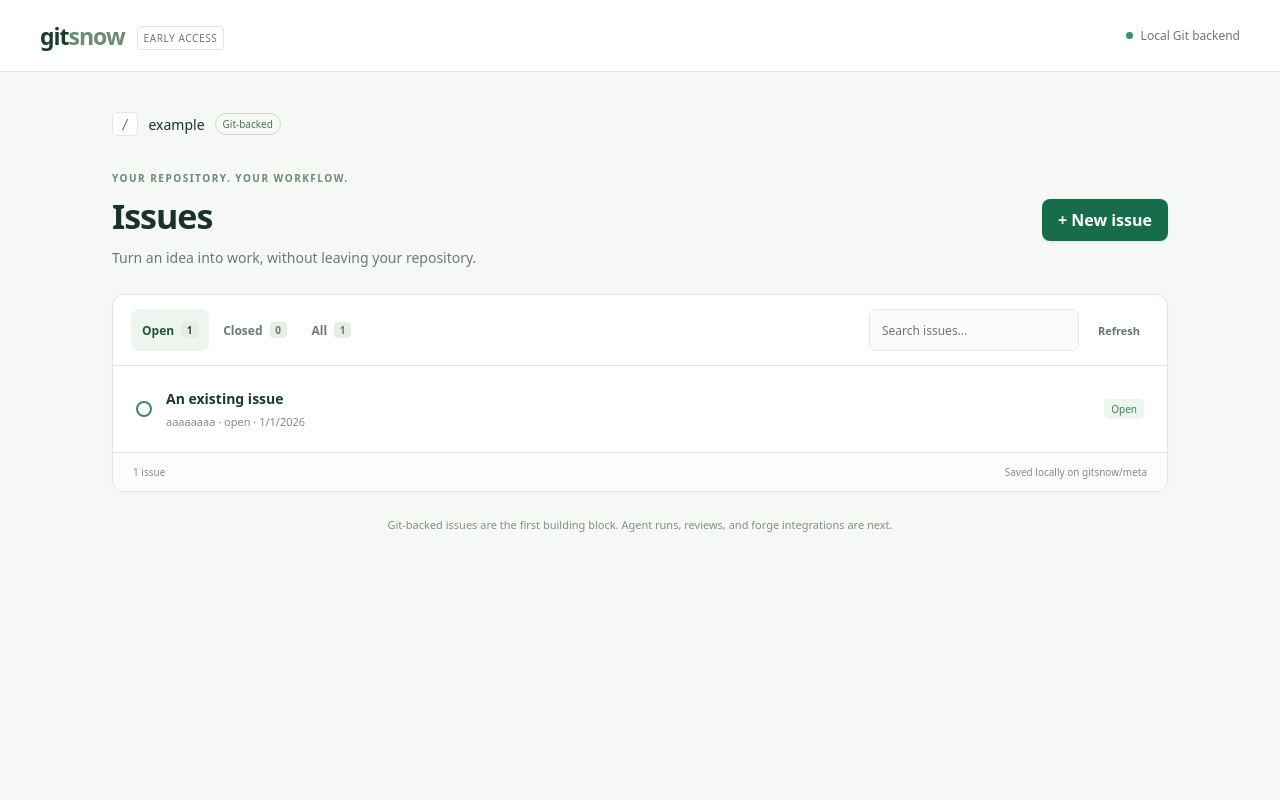
Test: issue workflow › requires an explicit revision choice after a conflict, without discarding the draft
This screenshot has width=1280, height=800.
Step 1. Click the button "An existing issue" → (225, 399), box [113,366,1167,452]
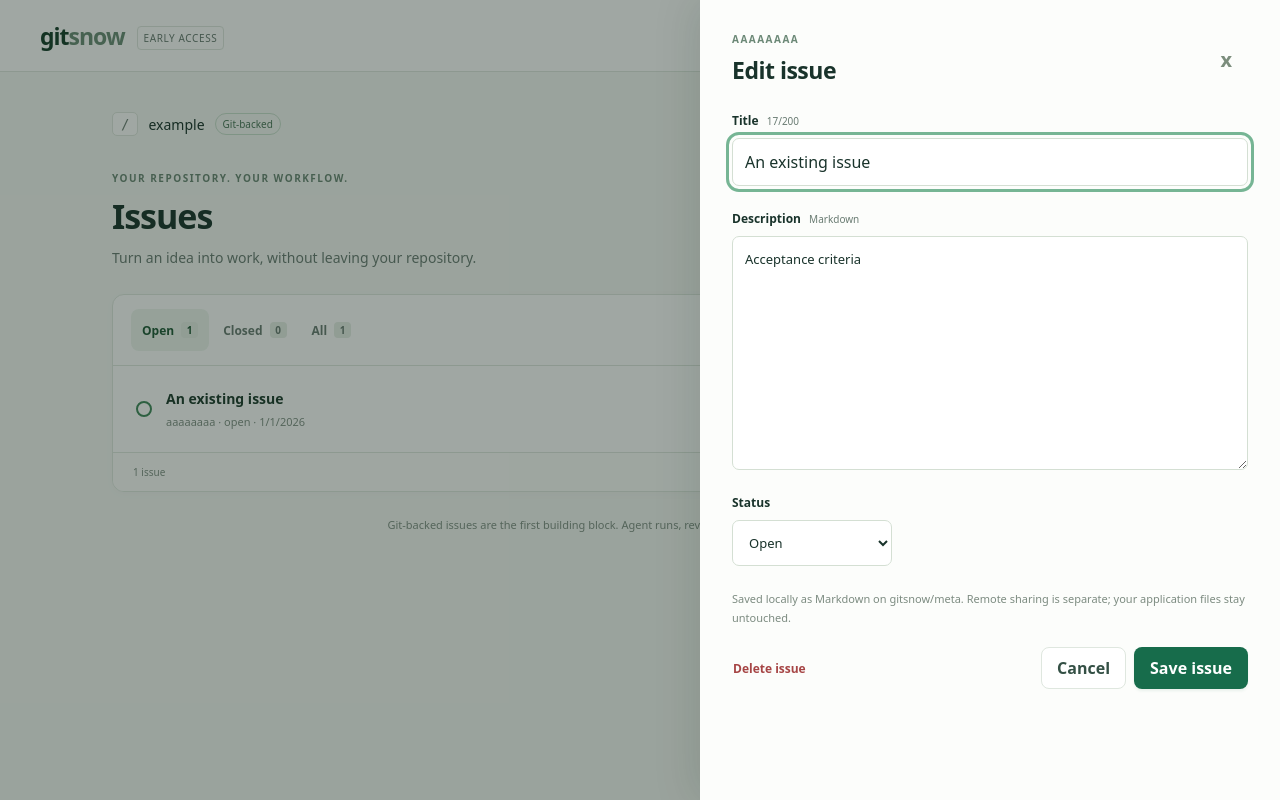
Step 2. Replace the text in the field labelled "Title 17/200" with "My draft" → (990, 162), box [732,138,1248,186]
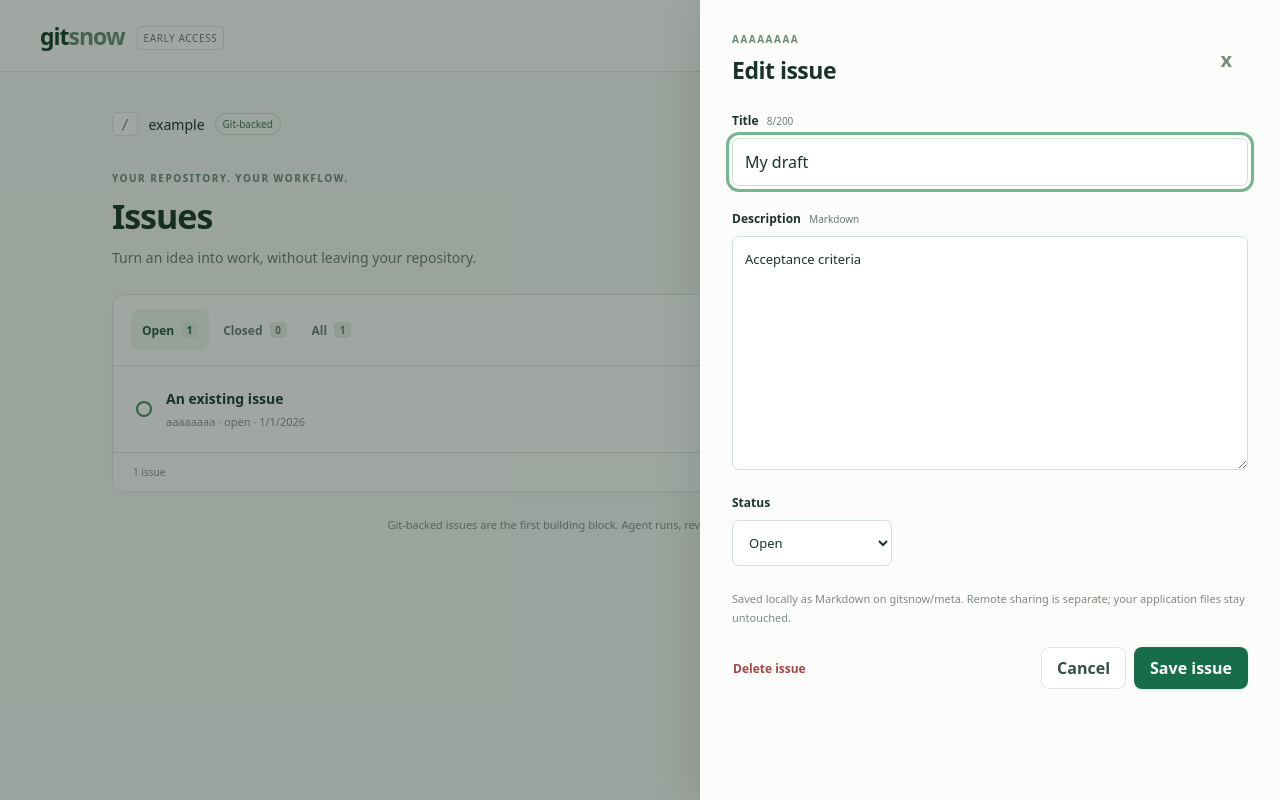
Step 3. Click the button "Save issue" → (1191, 668), box [1134,647,1248,689]
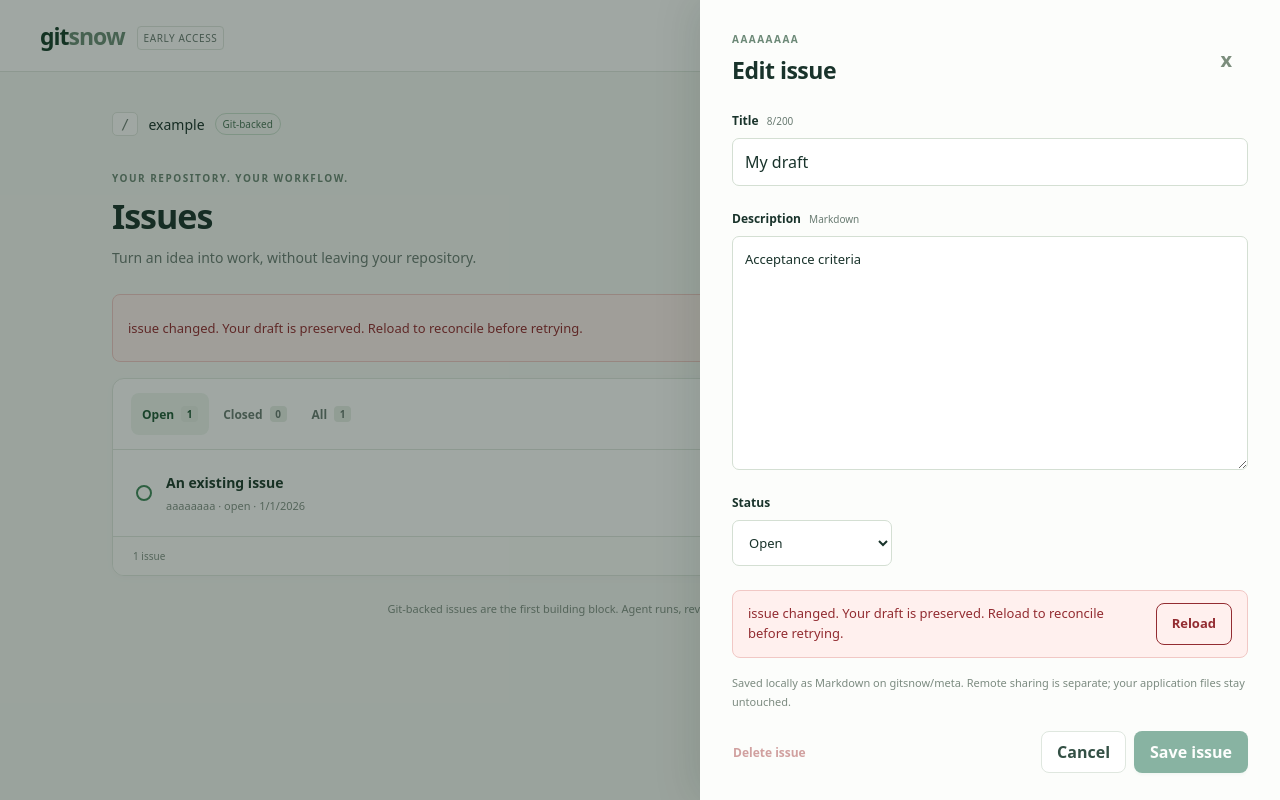
Now the message shows "issue changed", box [748,604,1104,642]
Step 4. Click the button "Reload" → (1194, 624), box [1156,603,1232,645]
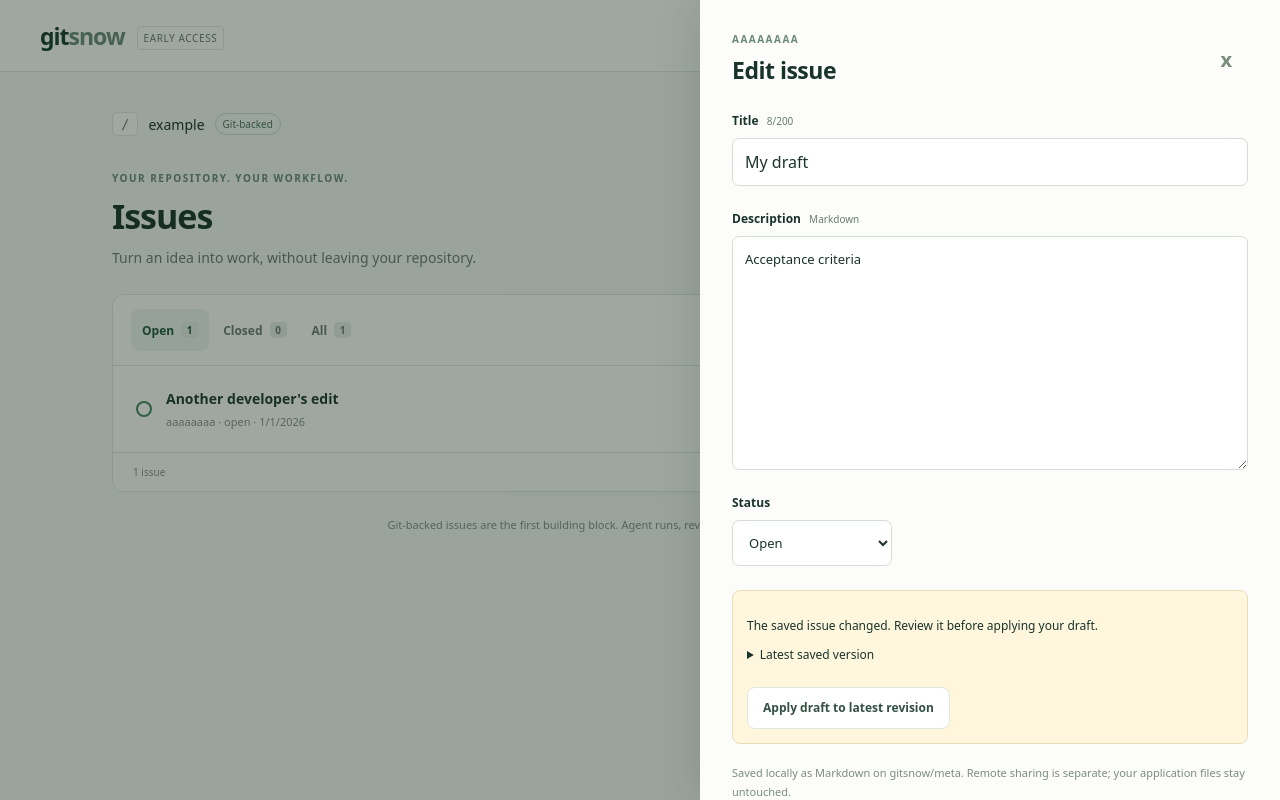
Step 5. Click the button "Apply draft to latest revision" → (848, 708), box [747,687,950,729]
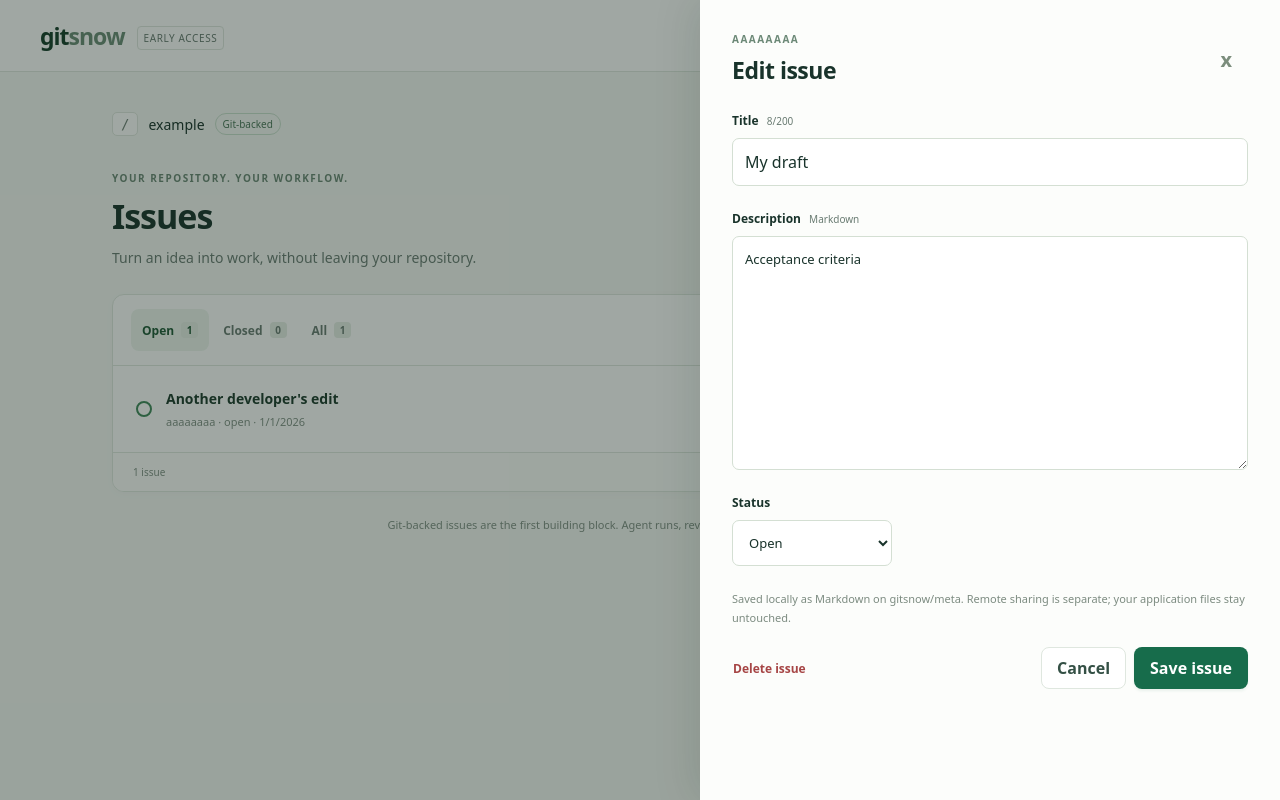
Step 6. Click the button "Save issue" → (1191, 668), box [1134,647,1248,689]
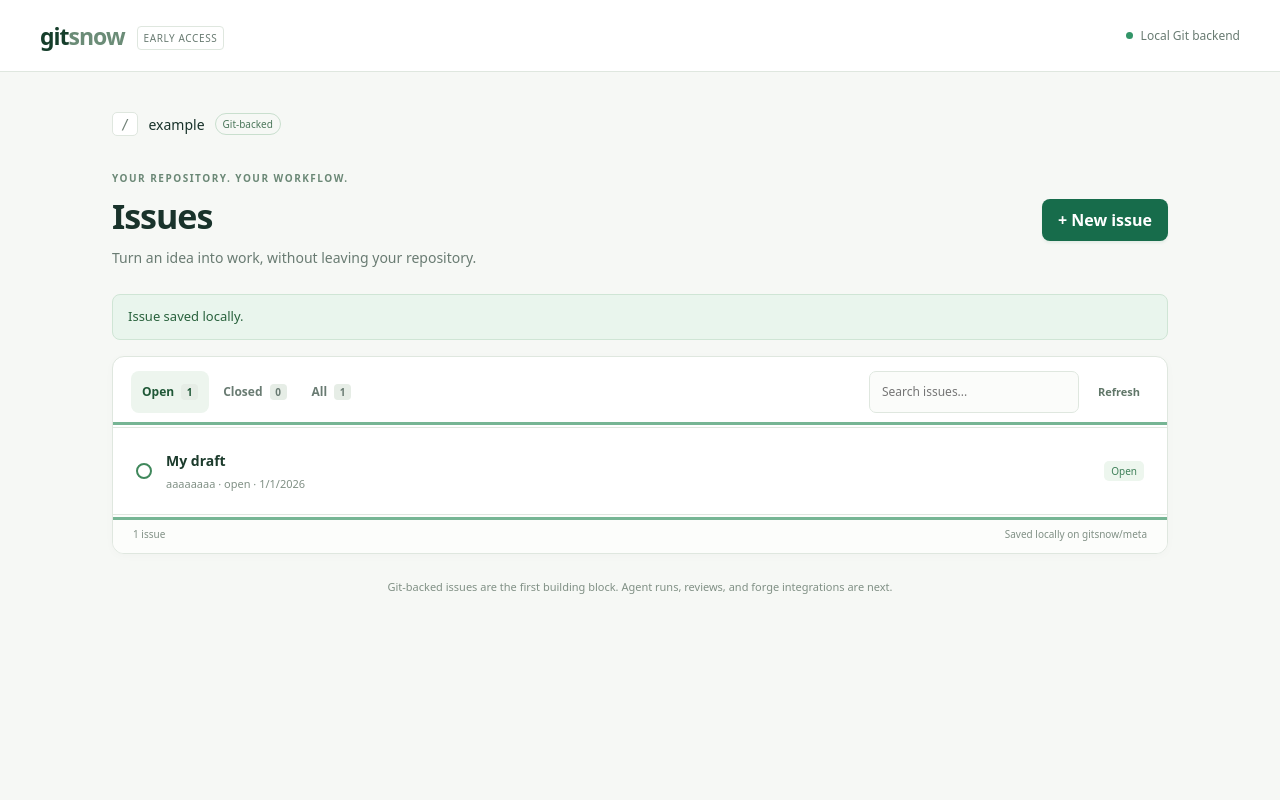
Now the text "Issue saved locally." is shown, box [112,294,1168,340]
